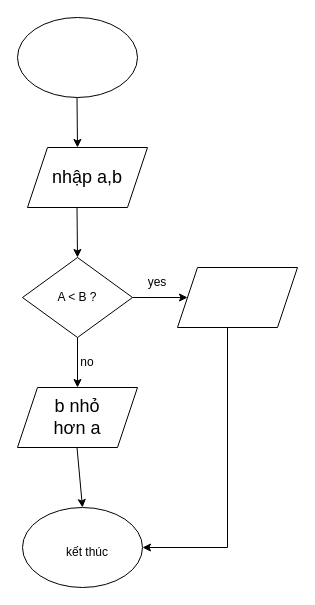
This 315x605 diagram has some shape labels left out. Here are the shapes that lost their labels. From the top down, the centre of each, then its label:
(x=77, y=57): bắt đầu
(x=237, y=297): a nhỏ hơn b
